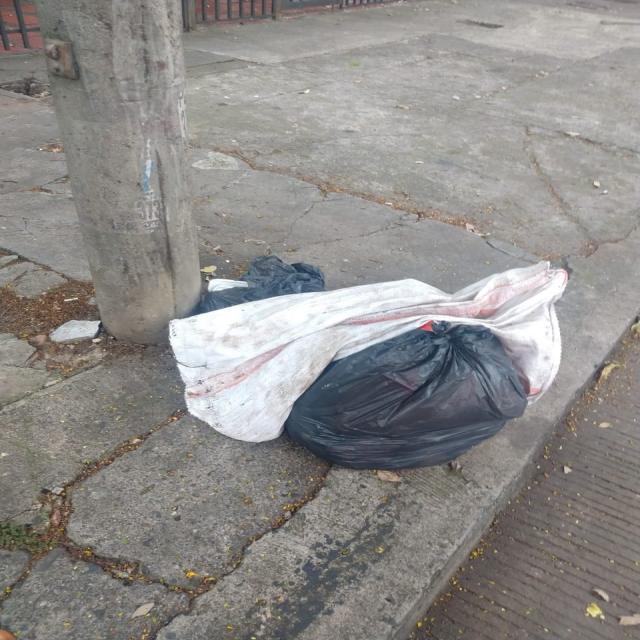Garbage_Bag: (292, 311, 538, 472)
